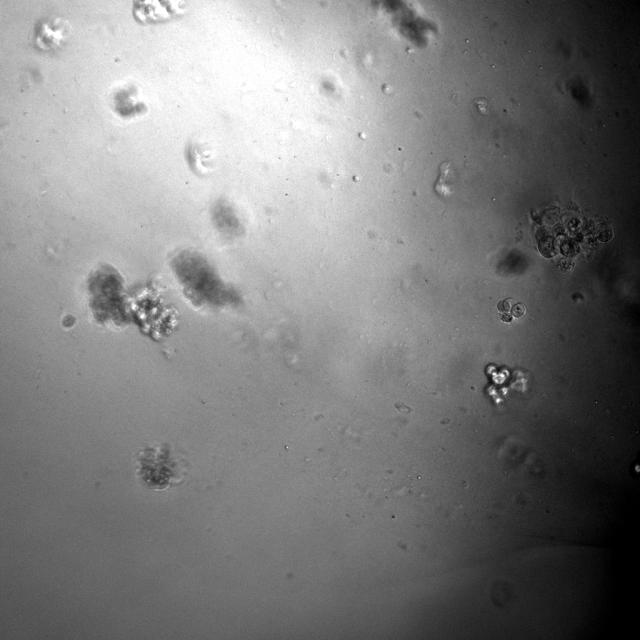organoid: (86, 264, 178, 340), (531, 202, 613, 273), (171, 247, 241, 307), (136, 443, 185, 490), (484, 363, 530, 405), (31, 15, 71, 52), (110, 82, 148, 119), (132, 0, 184, 24), (497, 298, 526, 322), (60, 313, 78, 330)
